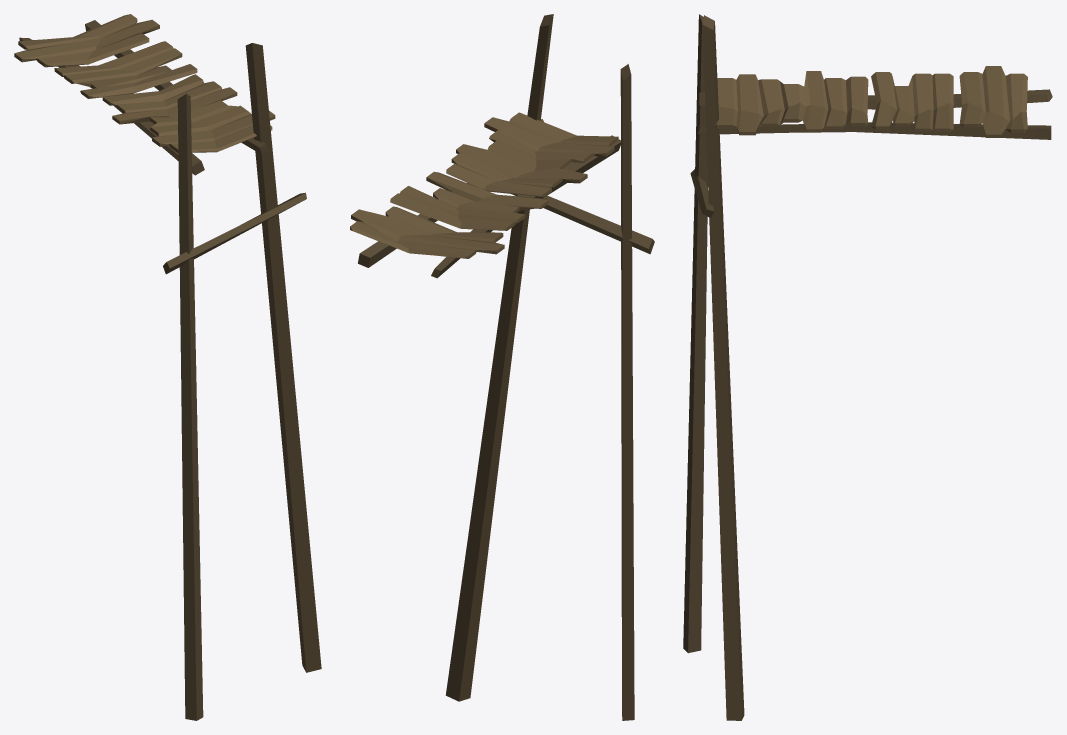
The model's file is SM_Bld_Rickety_Dock_02.glb.
3 views of the same model, side by side, from view 1: azimuth 30°, elevation 25°; view 2: azimuth 150°, elevation 25°; view 3: azimuth 270°, elevation 25° (orthographic). The views are drawn at different scales.
Parts seen in each view (by area): view 1: SM_Bld_Rickety_Dock_02; view 2: SM_Bld_Rickety_Dock_02; view 3: SM_Bld_Rickety_Dock_02.
Part boxes in pixels (x1=…): SM_Bld_Rickety_Dock_02: x1=14, y1=14, x2=321, y2=720; SM_Bld_Rickety_Dock_02: x1=350, y1=14, x2=654, y2=720; SM_Bld_Rickety_Dock_02: x1=683, y1=14, x2=1052, y2=720.
Size of the model in its own units: 0.0232 by 0.0828 by 0.0416.
